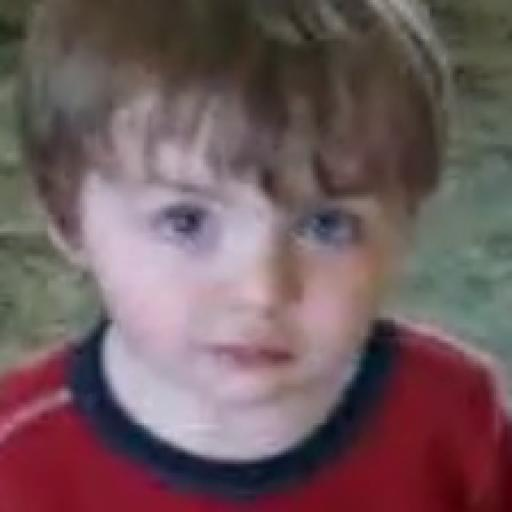Autism: (40, 10, 479, 448)
